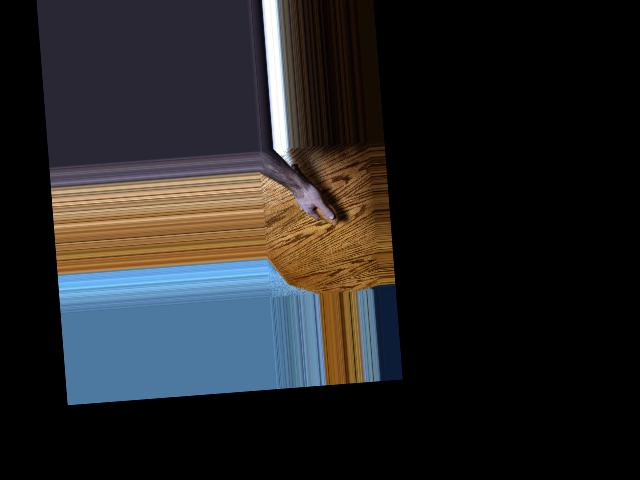sweet_potato: (287, 158, 338, 229)
